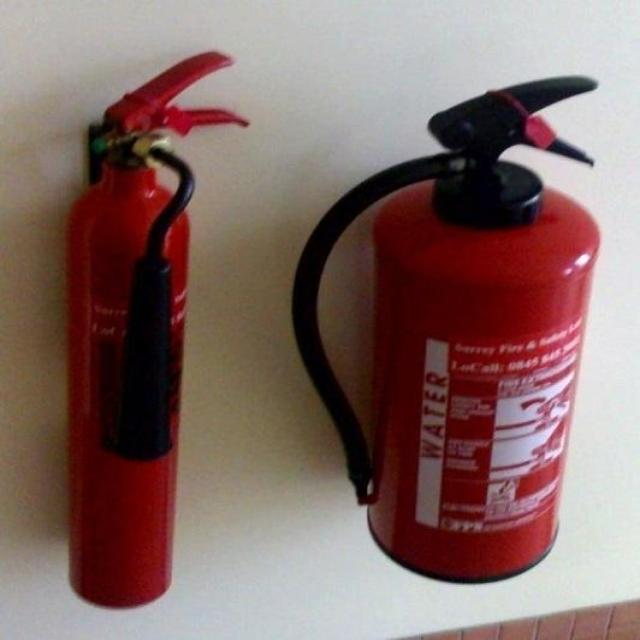fire_extinguisher: (286, 72, 607, 588), (56, 46, 258, 614)
